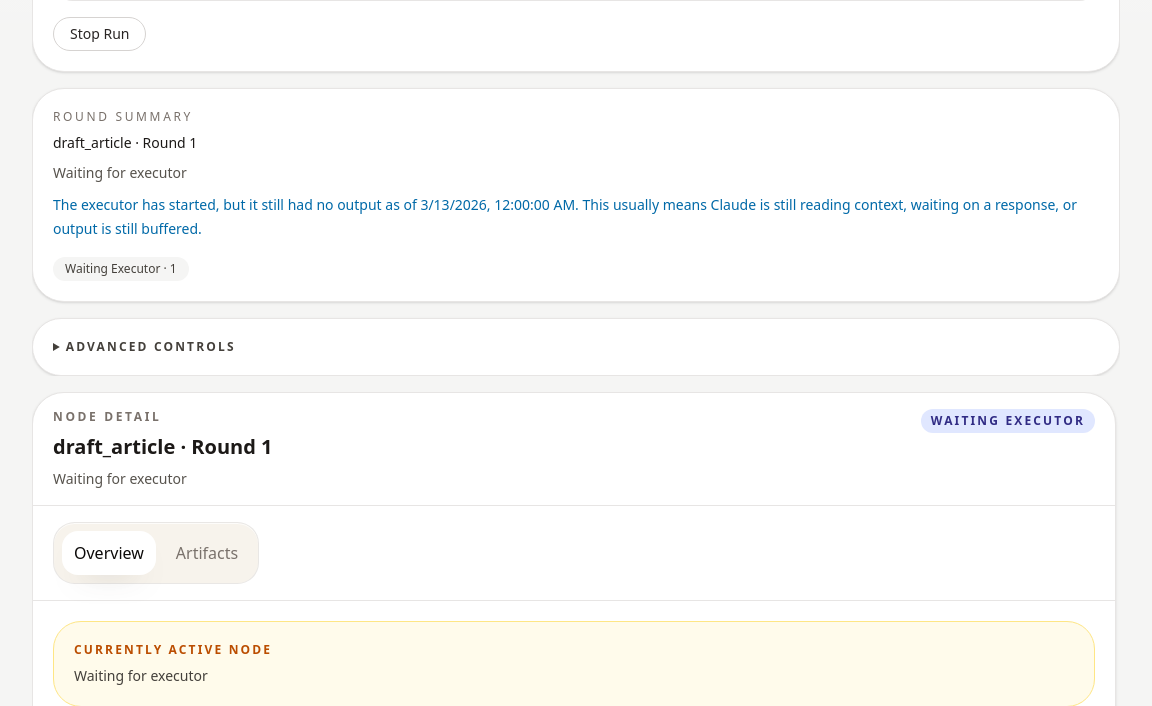
Test: RunDetailPage › prioritizes current focus and disables manual drive while auto-drive is running
(page scrolled)
expect the text "The executor has started, but it still had no output" is shown: met, box [53,195,1077,238]
Click the heading "Advanced controls": [151, 346] box [66,338,236,355]
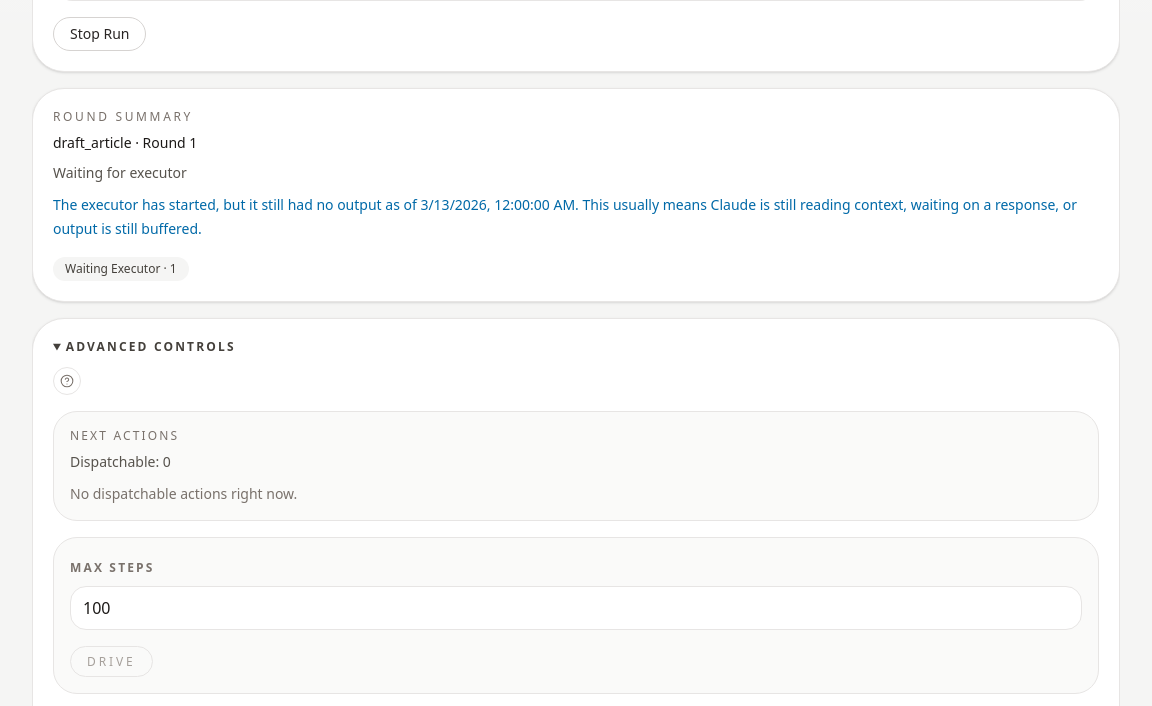
expect the button "Drive" is disabled: met, box [70,646,153,678]
